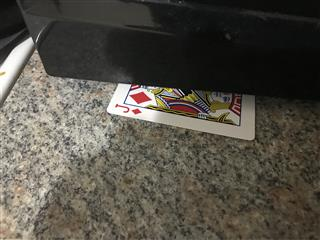JackOfDiamonds: (105, 82, 256, 140)
